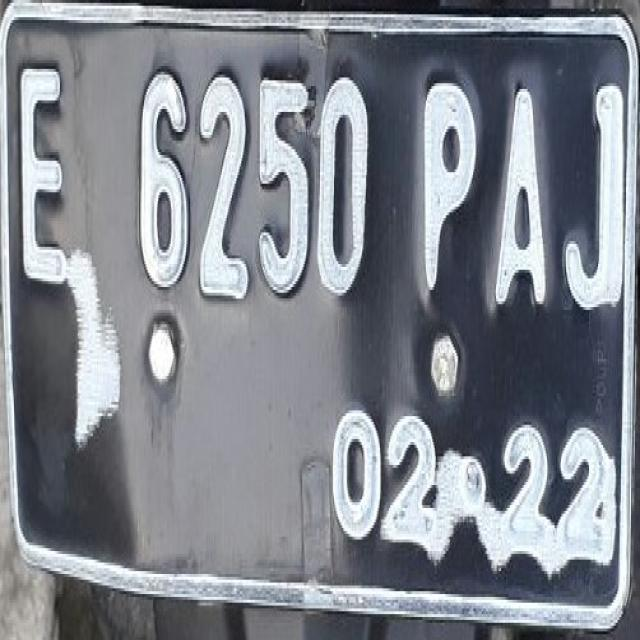plate: (1, 3, 629, 628)
